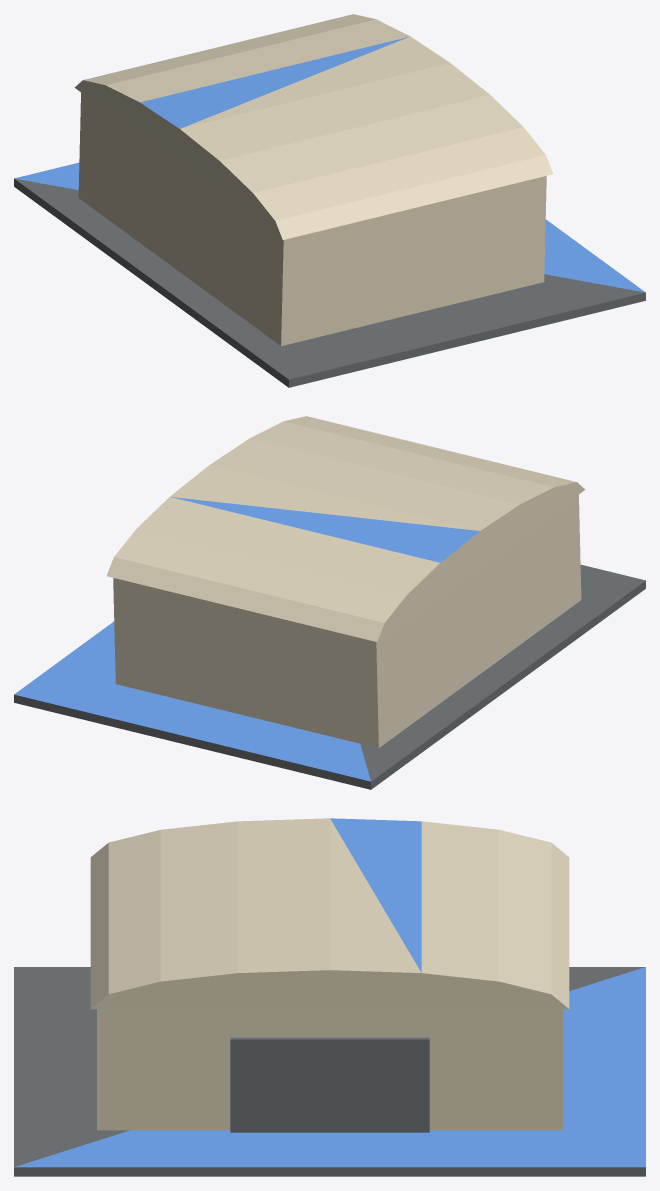
Rendered from meridian_vehicle_factory_damaged.glb.
3 renders of one model, top to bottom at view 1: azimuth 30°, elevation 25°; view 2: azimuth 150°, elevation 25°; view 3: azimuth 270°, elevation 25°, orthographic. The views are drawn at different scales.
Visible parts, largest first — view 1: hull; view 2: hull; view 3: hull, door.
Boxes of the visible parts, <box> form: hull: <box>14,14,645,387</box>; hull: <box>14,416,645,789</box>; hull: <box>14,818,645,1176</box>; door: <box>230,1037,429,1132</box>.
Size of the model in its own units: 11.4 by 4.62 by 15.2.
